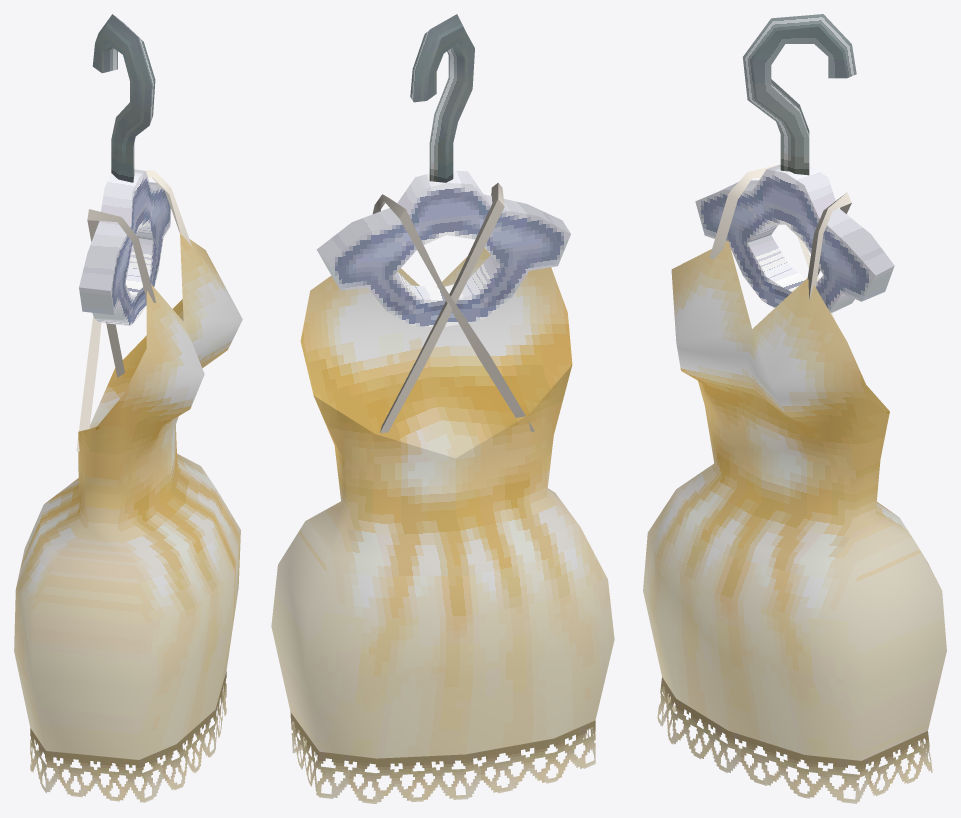
The model's file is fuku38-7.glb.
3 renders of one model, left to right at view 1: azimuth 30°, elevation 25°; view 2: azimuth 150°, elevation 25°; view 3: azimuth 270°, elevation 25°, orthographic. The views are drawn at different scales.
Parts seen in each view (by area): view 1: fuku38_7; view 2: fuku38_7; view 3: fuku38_7.
Part boxes in pixels (x1=…): fuku38_7: x1=14, y1=14, x2=242, y2=802; fuku38_7: x1=271, y1=14, x2=614, y2=803; fuku38_7: x1=643, y1=14, x2=946, y2=803.
Bounding box in the file's own units: 65 × 170 × 64.
Materials: 5 (4 with a texture image).
